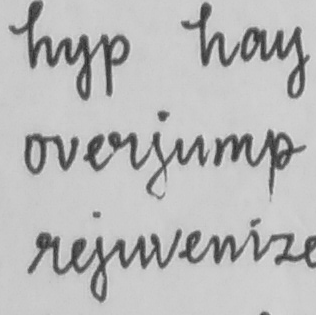e: (83, 131, 106, 173)
j: (141, 107, 172, 201)
m: (210, 130, 256, 170)
o: (20, 132, 50, 177)
p: (264, 127, 296, 203)
r: (106, 128, 140, 172)
u: (173, 131, 207, 167)
v: (51, 131, 82, 172)
